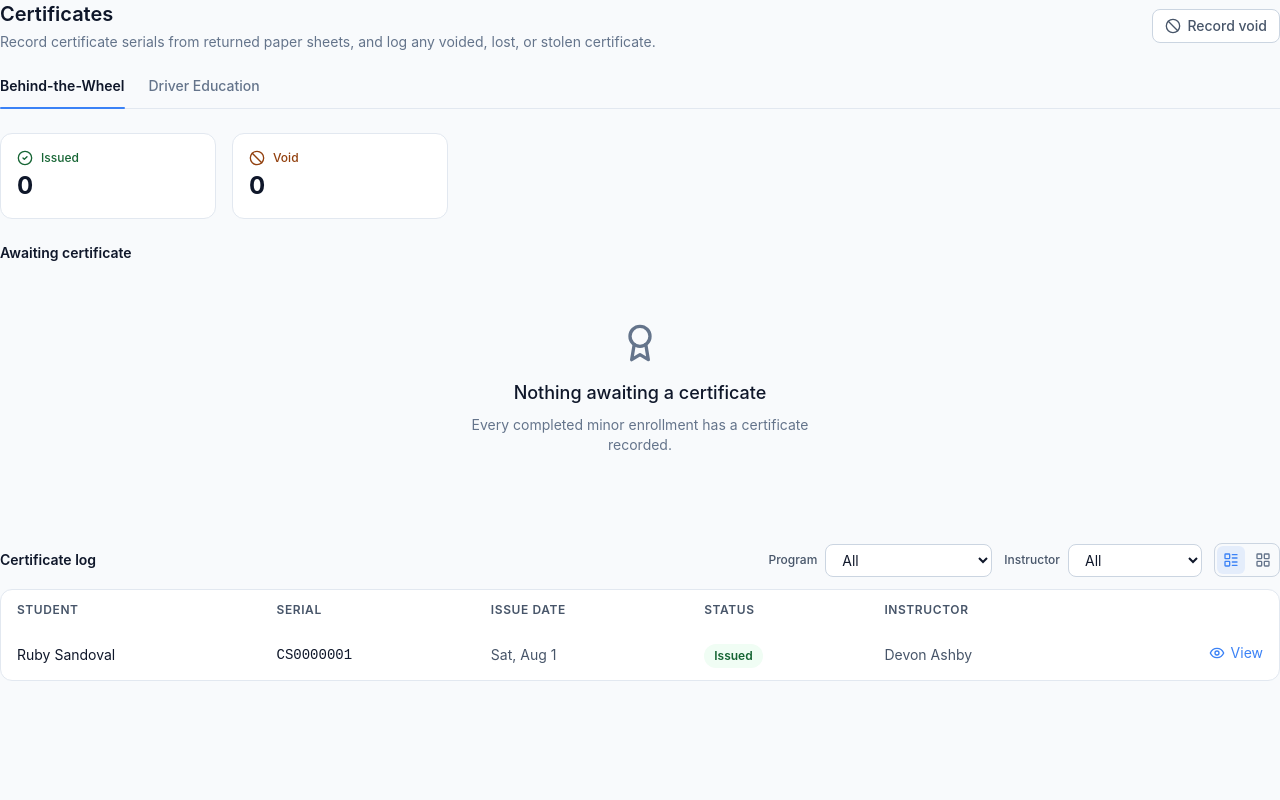
Test case: Certificates - digital certificate view › renders the DL 400B/DL 400C titles for a DE certificate
This screenshot has width=1280, height=800.
Expected: the text "Ruby Sandoval" is shown, [1, 630, 260, 680]
Click the button "View".
click(1236, 653)  # box [1209, 643, 1263, 663]
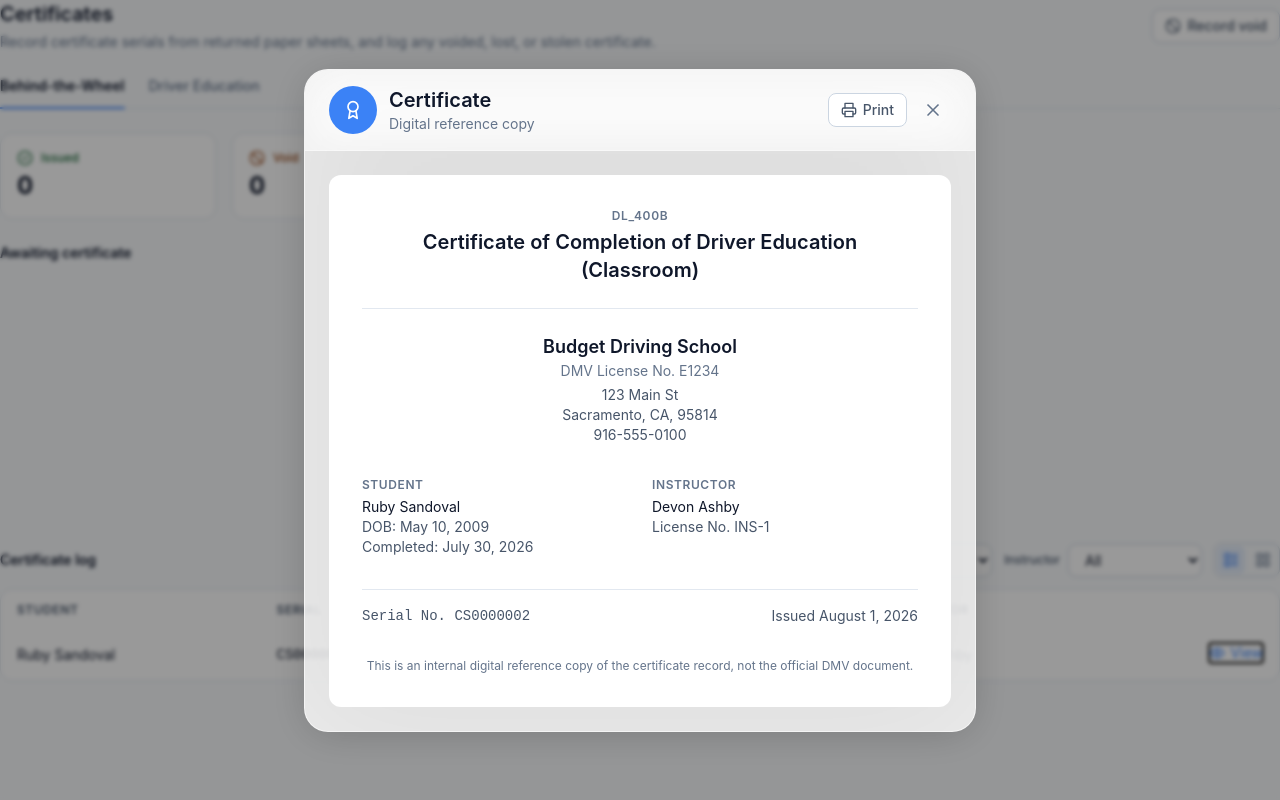
Expected: the heading "Certificate of Completion of Driver Education (Classroom)" is shown, [423, 230, 857, 282]
